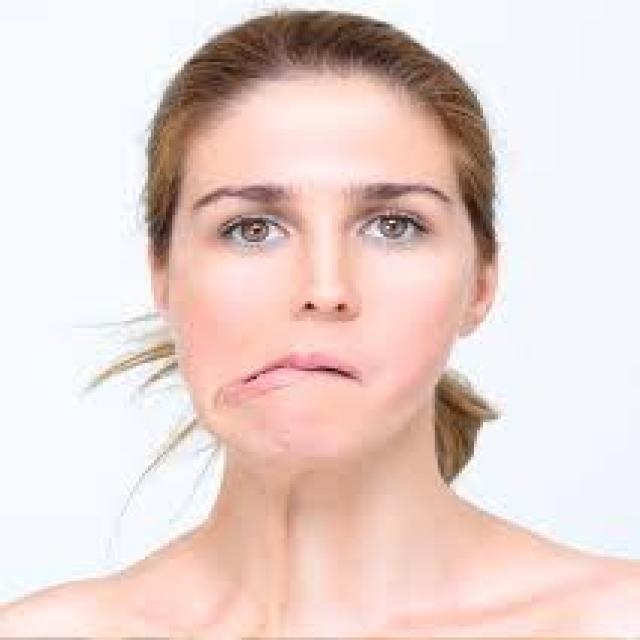stroke_face: (162, 28, 492, 462)
